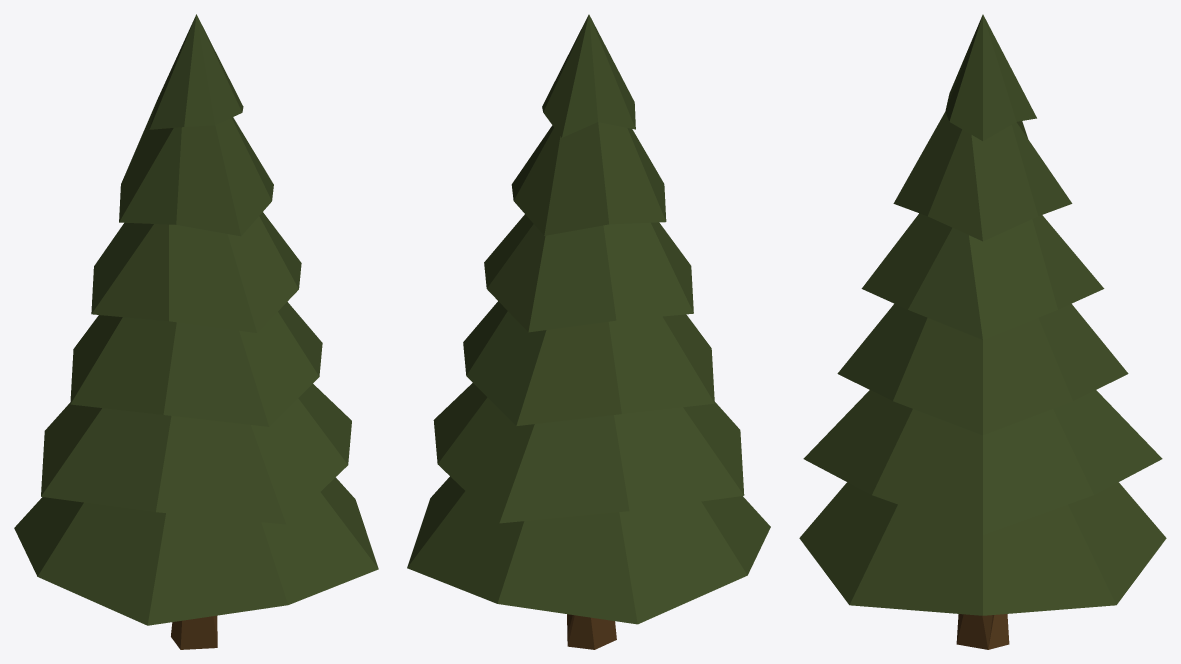
File: PineTreeLOD.fbx
The picture shows the model from 3 angles, left to right: view 1: azimuth 30°, elevation 25°; view 2: azimuth 150°, elevation 25°; view 3: azimuth 270°, elevation 25°; orthographic projection.
Visible parts, largest first — view 1: PineTree_LOD0; view 2: PineTree_LOD0; view 3: PineTree_LOD0.
Boxes of the visible parts, box(x1,y1,x2,y2) form: PineTree_LOD0: box(14, 14, 378, 649); PineTree_LOD0: box(407, 14, 770, 649); PineTree_LOD0: box(799, 14, 1166, 649).
Size of what is drawn, in the model's own units: 371 by 698 by 371.
